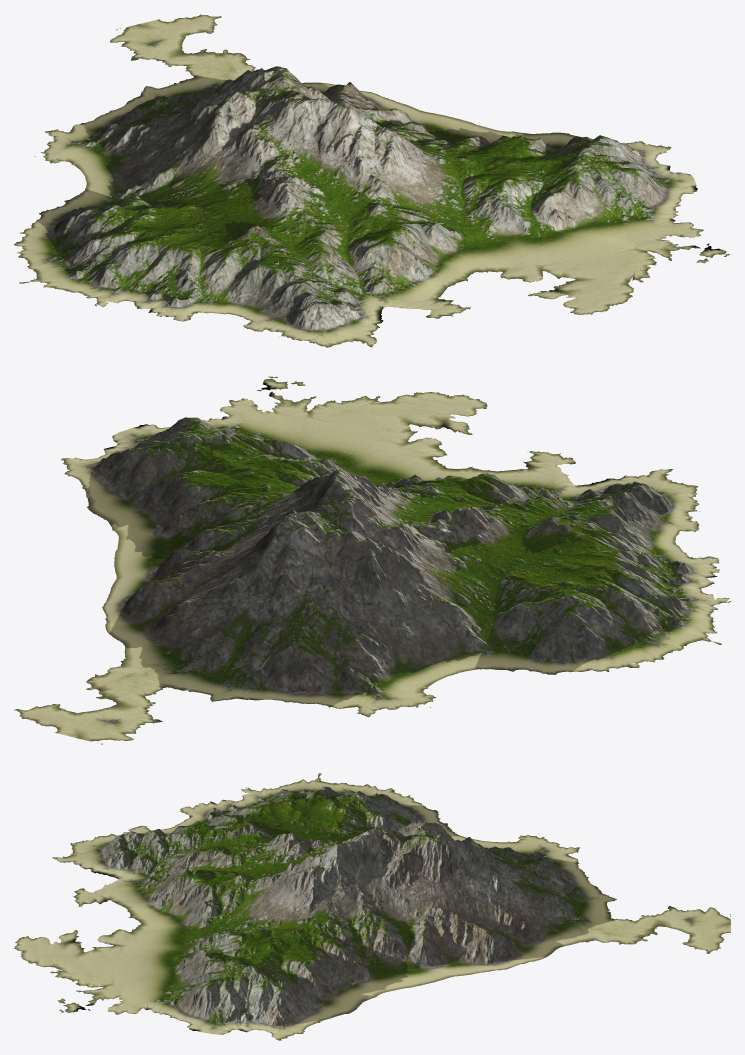
Rendered from Island.fbx.
The picture shows the model from 3 angles, top to bottom: view 1: azimuth 30°, elevation 25°; view 2: azimuth 150°, elevation 25°; view 3: azimuth 270°, elevation 25°; orthographic projection. The views are drawn at different scales.
Visible parts, largest first — view 1: northisland; view 2: northisland; view 3: northisland.
Part boxes in pixels (x1,y1,x2,y2): northisland: (14, 14, 730, 347); northisland: (14, 376, 730, 744); northisland: (14, 773, 730, 1040).
Size of the model in its own units: 779 by 105 by 883.
Materials: 1 (1 with a texture image).
